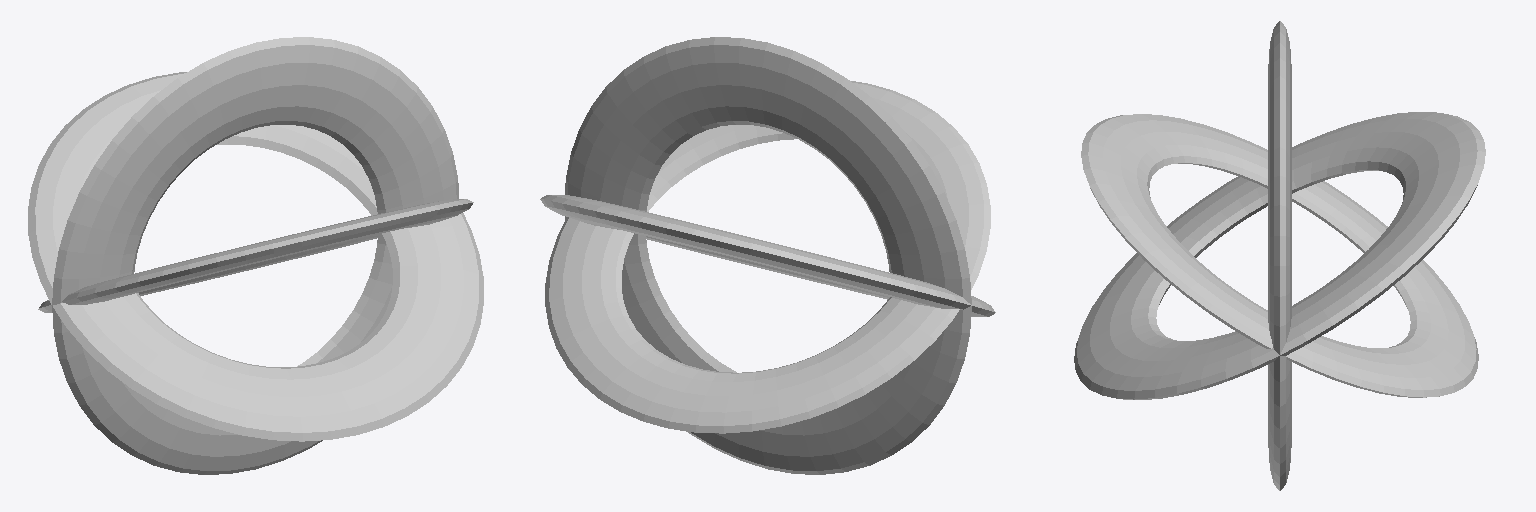
File: rings.obj
3 renders of one model, left to right at view 1: azimuth 30°, elevation 25°; view 2: azimuth 150°, elevation 25°; view 3: azimuth 270°, elevation 25°, orthographic.
Visible parts, largest first — view 1: Torus.001, Torus, Torus.002; view 2: Torus.001, Torus.002, Torus; view 3: Torus, Torus.002, Torus.001.
Boxes of the visible parts, box(x1,y1,x2,y2) form: Torus.001: box(52, 37, 458, 474); Torus: box(28, 72, 483, 441); Torus.002: box(38, 199, 473, 312); Torus.001: box(565, 37, 971, 474); Torus.002: box(545, 81, 990, 433); Torus: box(540, 195, 995, 316); Torus: box(1074, 112, 1485, 399); Torus.002: box(1081, 114, 1478, 397); Torus.001: box(1268, 21, 1291, 490).
Size of the model in its own units: 5 by 5 by 4.37.